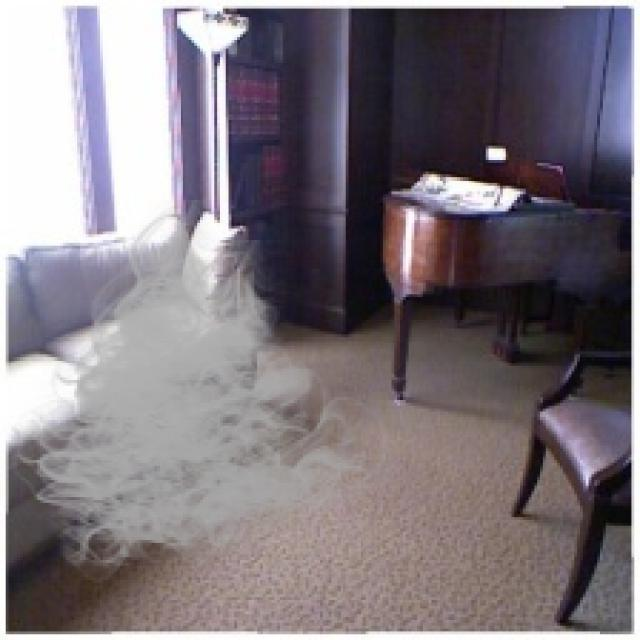Smoke: (0, 199, 403, 592)
